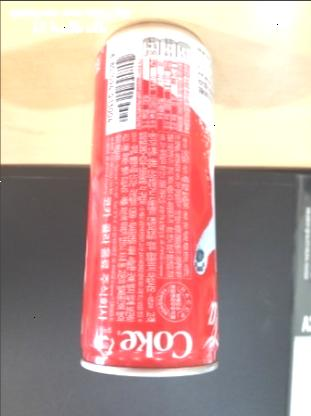Can: (78, 23, 220, 375)
